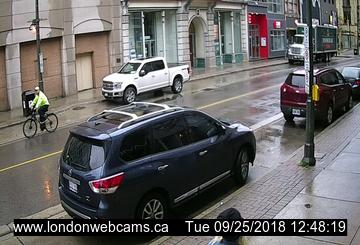Car: (60, 103, 261, 231), (99, 53, 196, 103), (278, 67, 356, 126), (287, 21, 341, 64)
riding bicycle: (19, 81, 60, 139)
